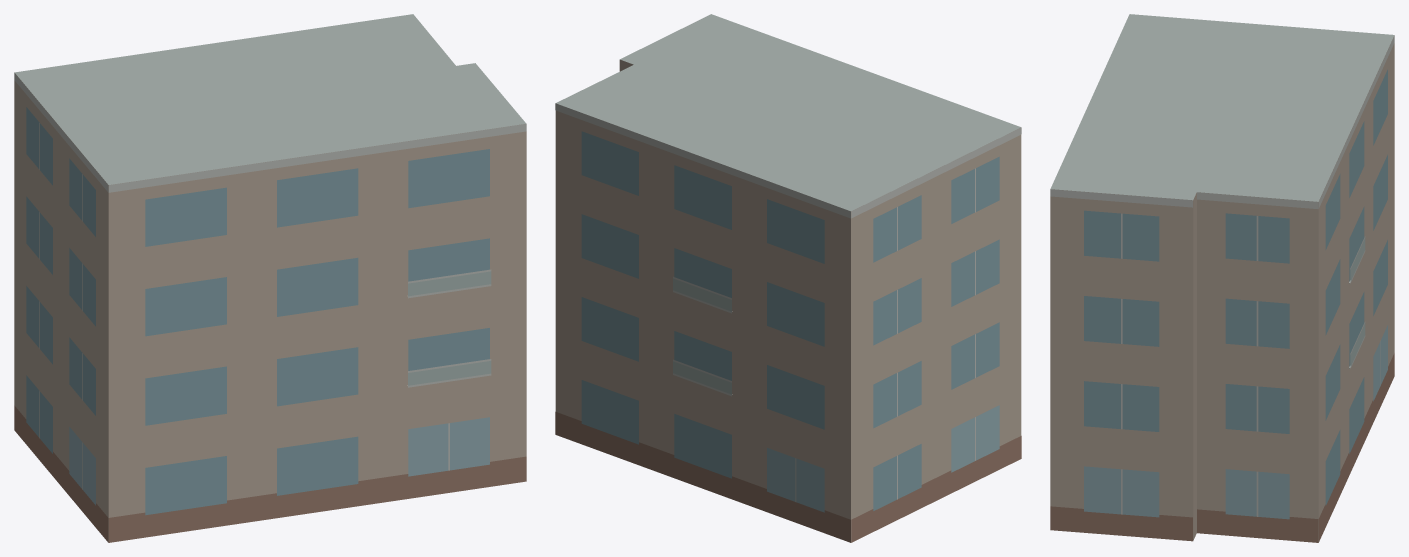
The model's file is survey-upis-32536986.glb.
The picture shows the model from 3 angles, left to right: view 1: azimuth 30°, elevation 25°; view 2: azimuth 150°, elevation 25°; view 3: azimuth 270°, elevation 25°; orthographic projection. The views are drawn at different scales.
Parts seen in each view (by area): view 1: survey-upis-32536986.tmp; view 2: survey-upis-32536986.tmp; view 3: survey-upis-32536986.tmp.
Part boxes in pixels (x1,y1,x2,y2): survey-upis-32536986.tmp: (14, 14, 526, 542); survey-upis-32536986.tmp: (555, 14, 1021, 542); survey-upis-32536986.tmp: (1050, 14, 1394, 542).
Bounding box in the file's own units: 13.36 × 11.3 × 10.35.
